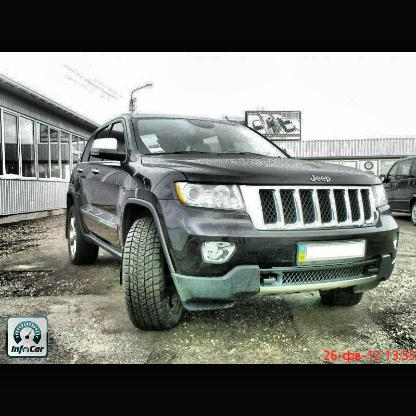Jeep Grand Cherokee SUV 2012: (66, 113, 400, 331)
